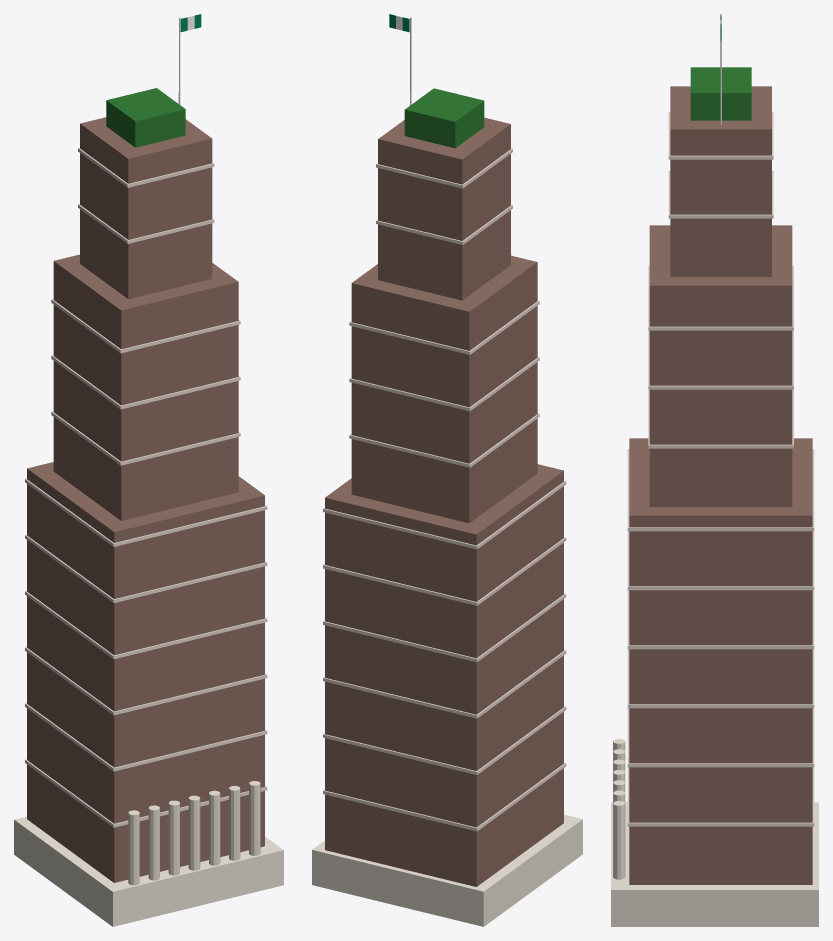
The model's file is reserve-authority.glb.
3 renders of one model, left to right at view 1: azimuth 30°, elevation 25°; view 2: azimuth 150°, elevation 25°; view 3: azimuth 270°, elevation 25°, orthographic. The views are drawn at different scales.
Parts seen in each view (by area): view 1: reserve-authority_Building; view 2: reserve-authority_Building; view 3: reserve-authority_Building.
Boxes of the visible parts, x1=… form: reserve-authority_Building: x1=14, y1=14, x2=283, y2=926; reserve-authority_Building: x1=312, y1=14, x2=582, y2=926; reserve-authority_Building: x1=611, y1=14, x2=818, y2=926.
Bounding box in the file's own units: 10.2 × 48 × 10.2.
